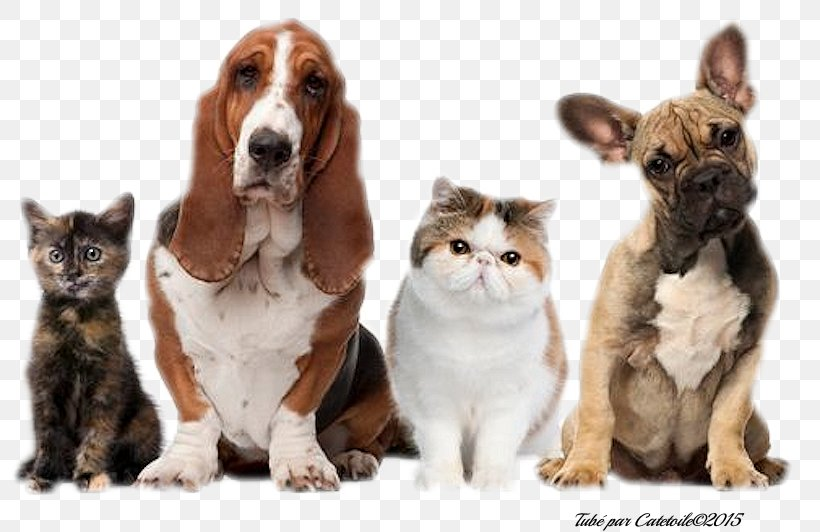cat: (390, 177, 568, 479), (8, 190, 171, 488)
dog: (160, 35, 371, 480), (583, 63, 769, 488)
